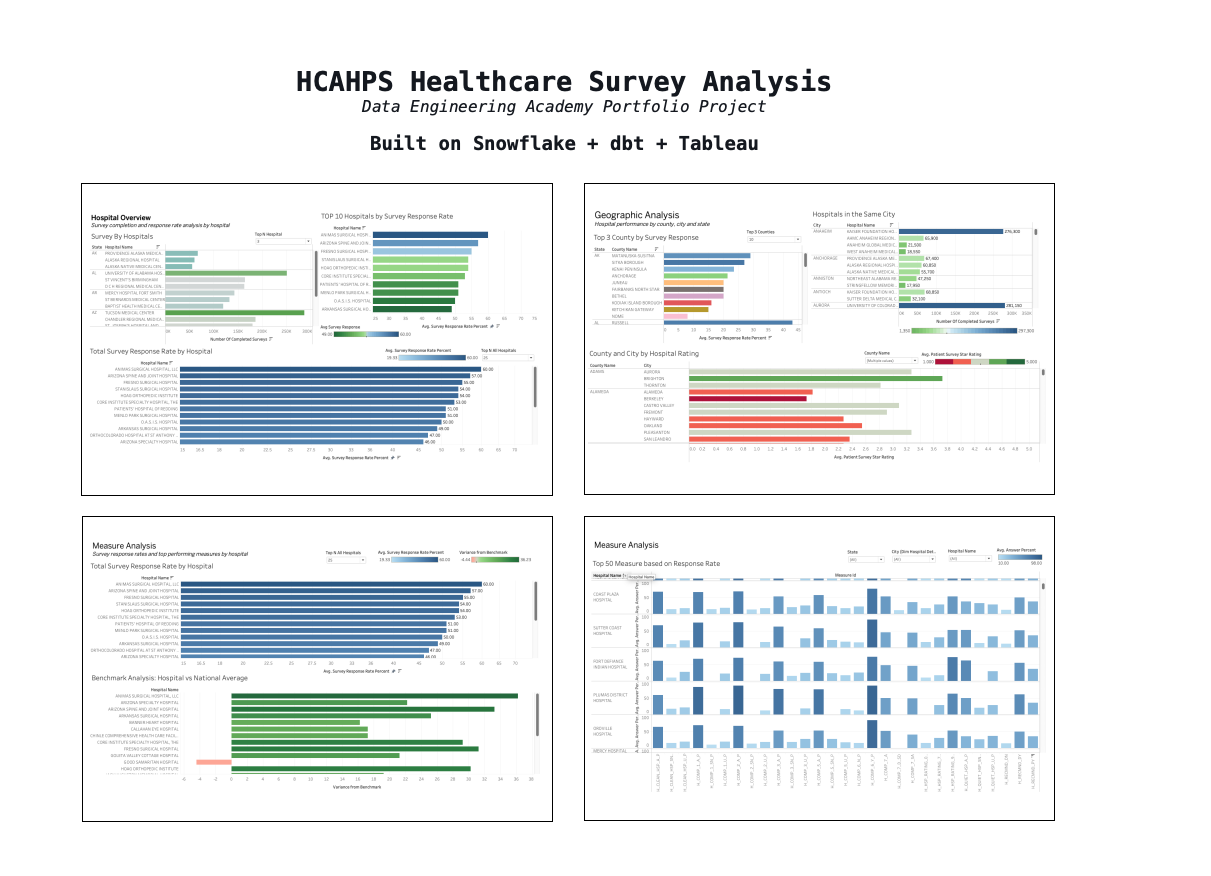

This screenshot's page, from the dashboard's own definition file:
{"tool":"tableau","page":{"name":"Home","canvas":[1024,800],"ordinal":1},"visuals":[{"type":"text","box":[9,3.1,1007,93.8]},{"type":"dashboard-object","box":[525,99,471,325]},{"type":"dashboard-object","box":[24,100,472,326]},{"type":"text","box":[679,425,193,31.2]},{"type":"text","box":[122,426,279,31.2]},{"type":"dashboard-object","box":[523,453.1,471,317.7]},{"type":"dashboard-object","box":[23,454.2,475,318.8]},{"type":"text","box":[615,767.7,297,31.2]},{"type":"text","box":[161,769.8,160,31.2]}]}

Visuals, with their boxes on the page's 1024x800 design canvas (x1, y1, x2, y2). These are canvas units, not pixel positions in the 1211x876 screenshot, which may show the page scaled, cropped or inside an application window:
text: x1=9 y1=3 x2=1016 y2=97
dashboard-object: x1=525 y1=99 x2=996 y2=424
dashboard-object: x1=24 y1=100 x2=496 y2=426
text: x1=679 y1=425 x2=872 y2=456
text: x1=122 y1=426 x2=401 y2=457
dashboard-object: x1=523 y1=453 x2=994 y2=771
dashboard-object: x1=23 y1=454 x2=498 y2=773
text: x1=615 y1=768 x2=912 y2=799
text: x1=161 y1=770 x2=321 y2=801
